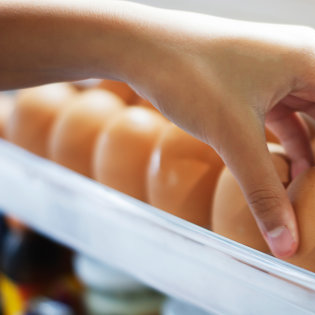egg: (8, 82, 315, 269)
